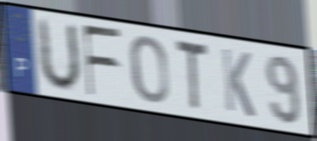9: (263, 52, 303, 127)
F: (81, 23, 123, 99)
K: (220, 45, 257, 121)
O: (128, 34, 171, 106)
T: (173, 36, 210, 115)
U: (37, 15, 83, 94)
